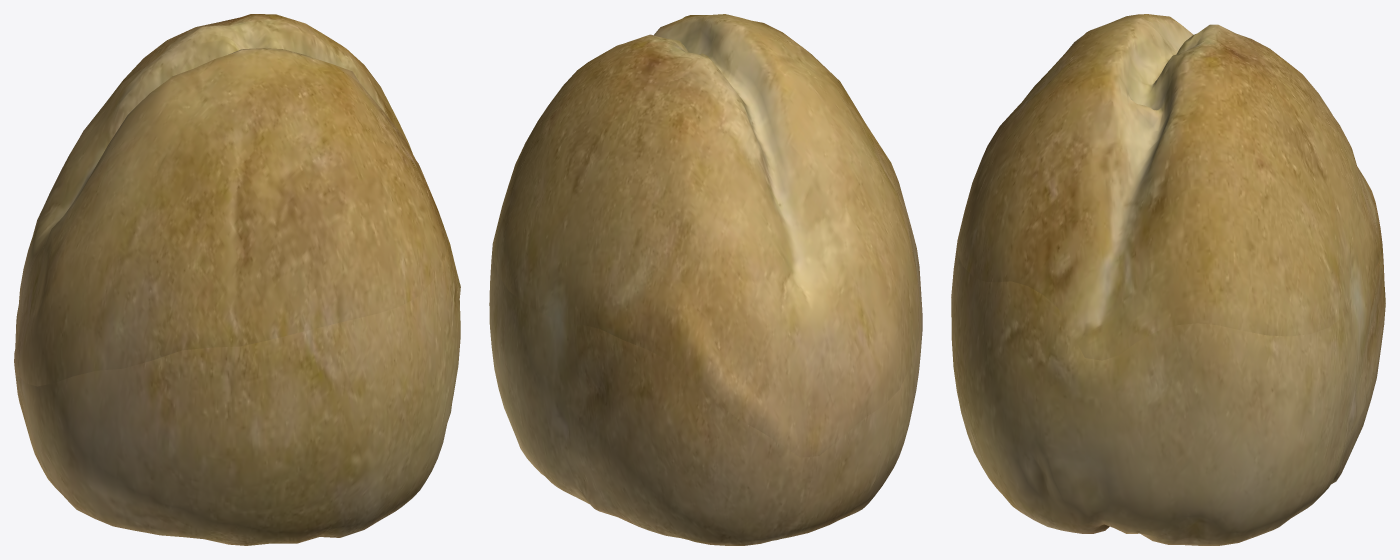
The model's file is roll_b.glb.
3 views of the same model, side by side, from view 1: azimuth 30°, elevation 25°; view 2: azimuth 150°, elevation 25°; view 3: azimuth 270°, elevation 25° (orthographic). The views are drawn at different scales.
Parts seen in each view (by area): view 1: hamburger_buns_02.001; view 2: hamburger_buns_02.001; view 3: hamburger_buns_02.001.
Boxes of the visible parts, bbox=[...] form: hamburger_buns_02.001: bbox=[14, 14, 460, 545]; hamburger_buns_02.001: bbox=[489, 14, 922, 545]; hamburger_buns_02.001: bbox=[951, 14, 1385, 545].
Size of the model in its own units: 2.57 by 2.84 by 2.45.
Materials: 1 (1 with a texture image).
